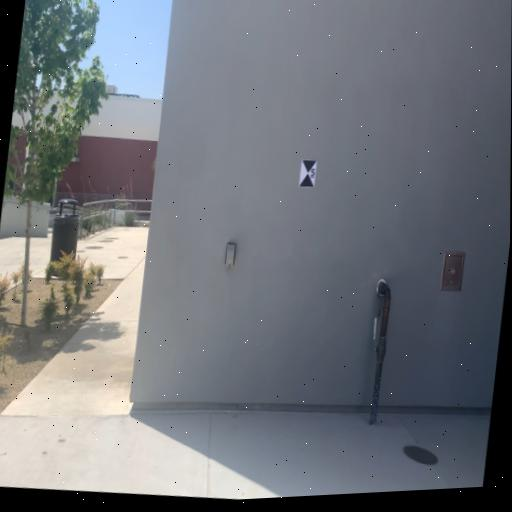target5: (298, 158, 318, 189)
